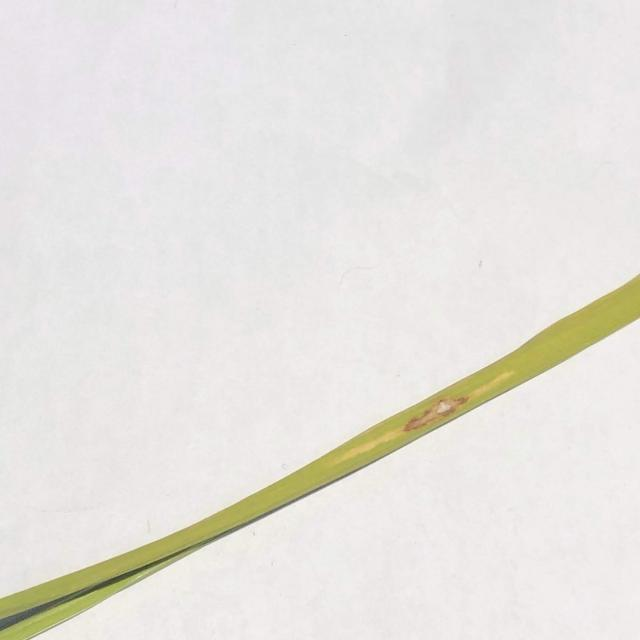Blast: (433, 400, 459, 417)
